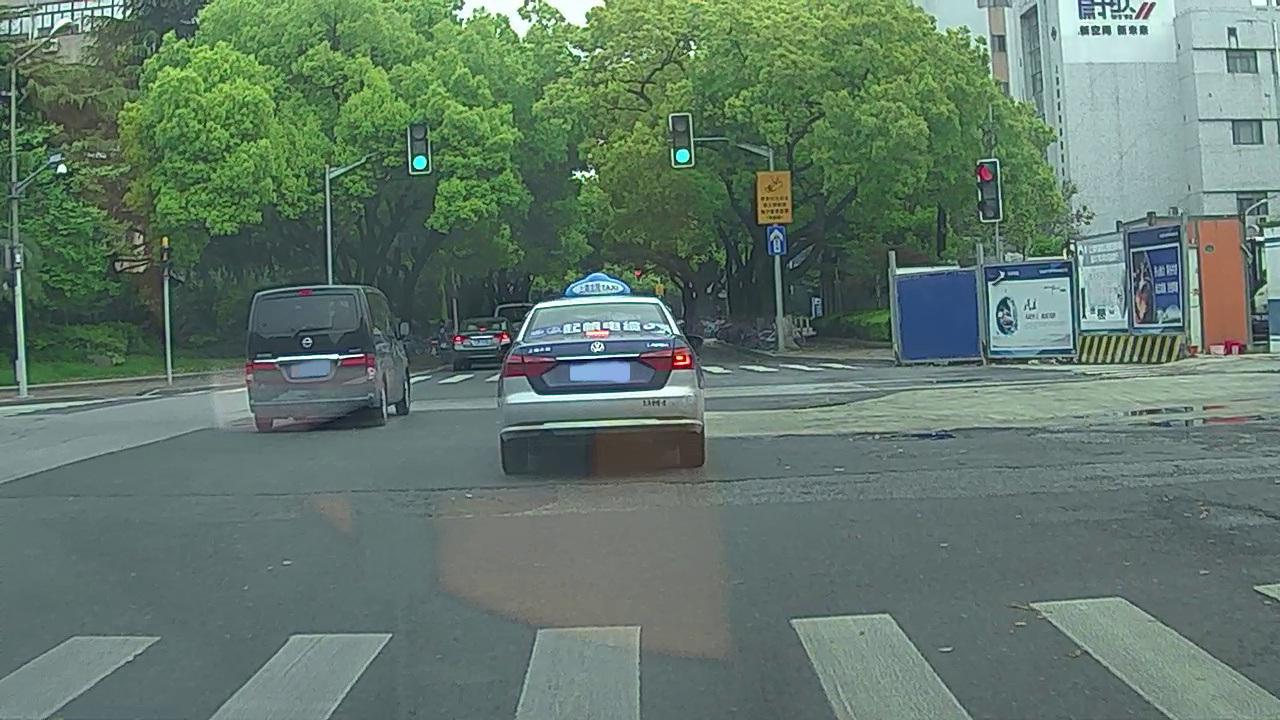traffic_light: (671, 115, 693, 166), (410, 125, 430, 172)
